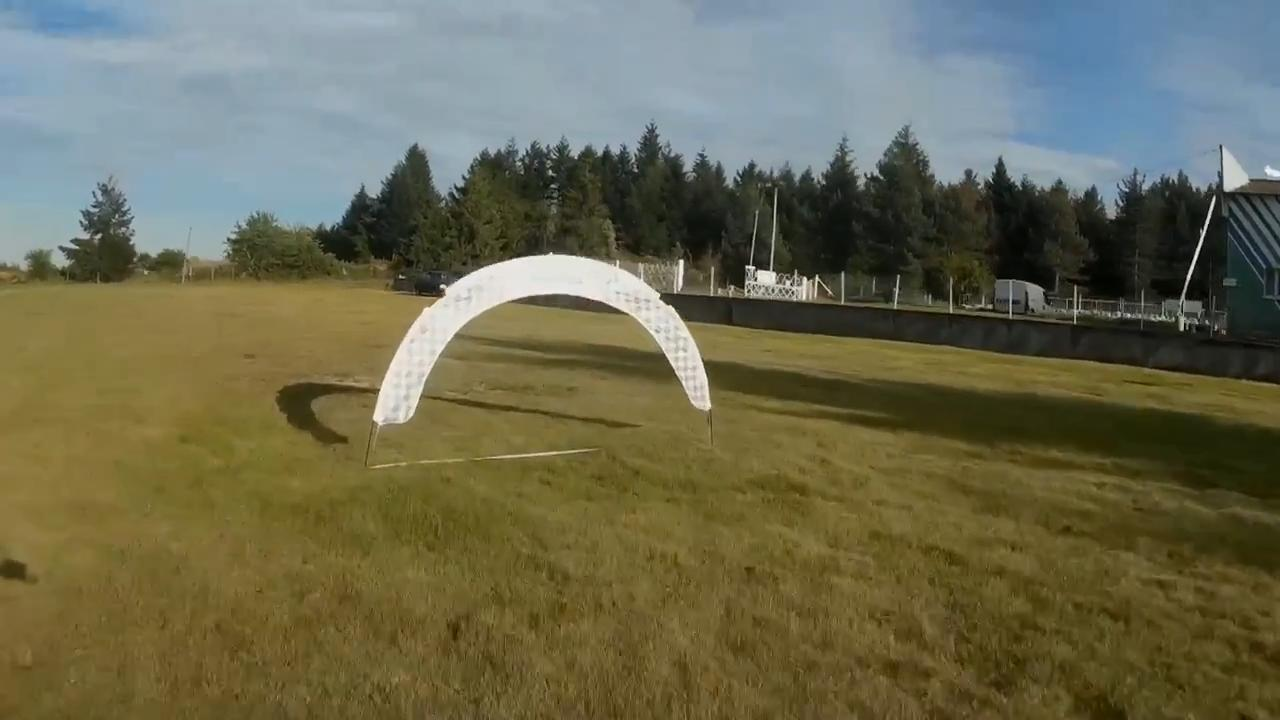gate: (372, 254, 710, 424)
